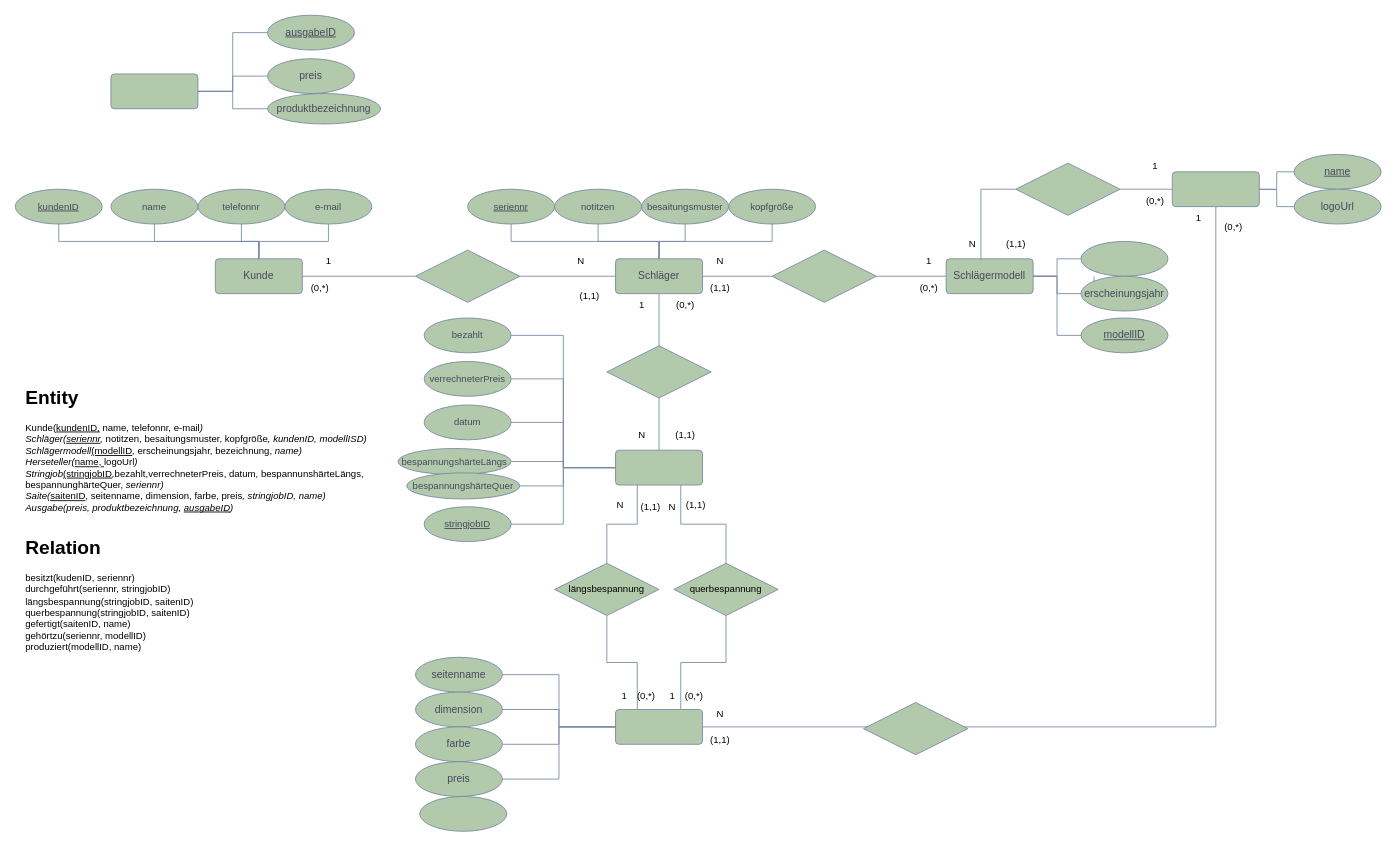
Some shapes in this 1396 by 847 pixel diagram are drawn without their labels. The centre of each missing label's shape, as x and y in pixels:
"Ausgaben" belongs at [154,91].
"besitzt" belongs at [467,275].
"bezeichnung" belongs at [1124,258].
"durchgeführt" belongs at [658,371].
"gefertigt" belongs at [915,728].
"gehörtzu" belongs at [824,275].
"Hersteller" belongs at [1215,189].
"produziert" belongs at [1067,188].
"Saite" belongs at [659,726].
"saitenID" belongs at [463,813].
"Stringjob" belongs at [659,467].
